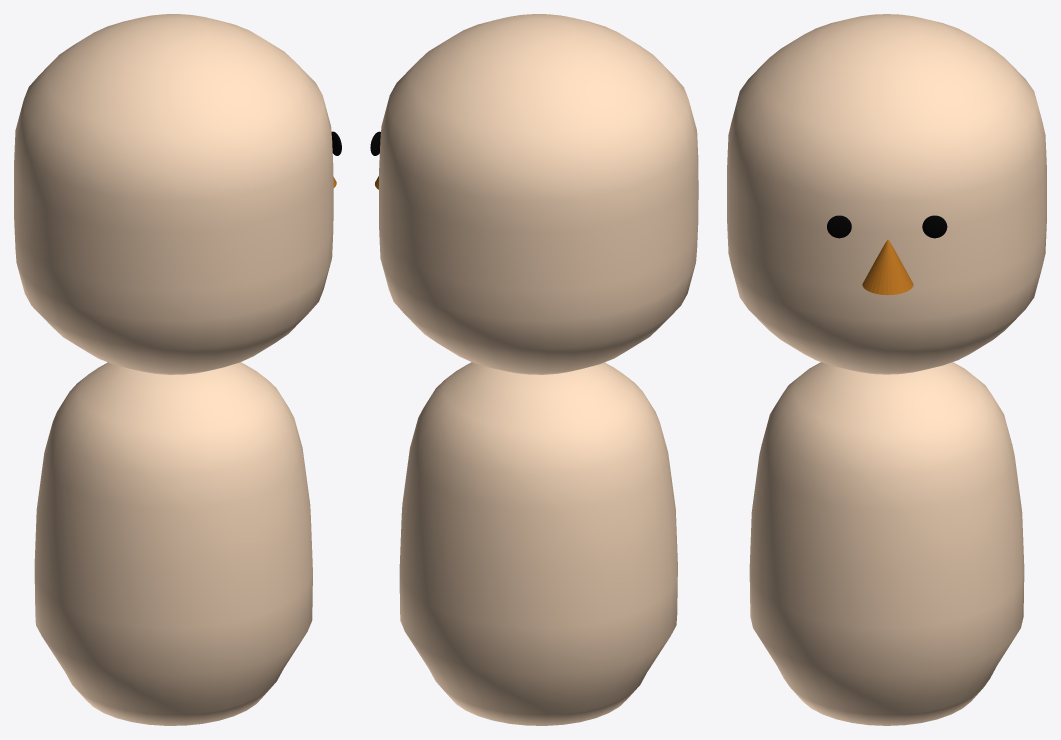
File: PlayerCharacterGhostGame.fbx
3 renders of one model, left to right at view 1: azimuth 30°, elevation 25°; view 2: azimuth 150°, elevation 25°; view 3: azimuth 270°, elevation 25°, orthographic.
Parts seen in each view (by area): view 1: Sphere, Cylinder; view 2: Sphere, Cylinder; view 3: Sphere, Cylinder, Cone.
Boxes of the visible parts, bbox=[...] form: Sphere: bbox=[14, 14, 333, 374]; Cylinder: bbox=[34, 362, 312, 725]; Sphere: bbox=[379, 14, 698, 374]; Cylinder: bbox=[399, 362, 677, 725]; Sphere: bbox=[727, 14, 1046, 374]; Cylinder: bbox=[749, 362, 1024, 725]; Cone: bbox=[862, 240, 913, 295].
Size of the model in its own units: 191 by 401 by 177.
